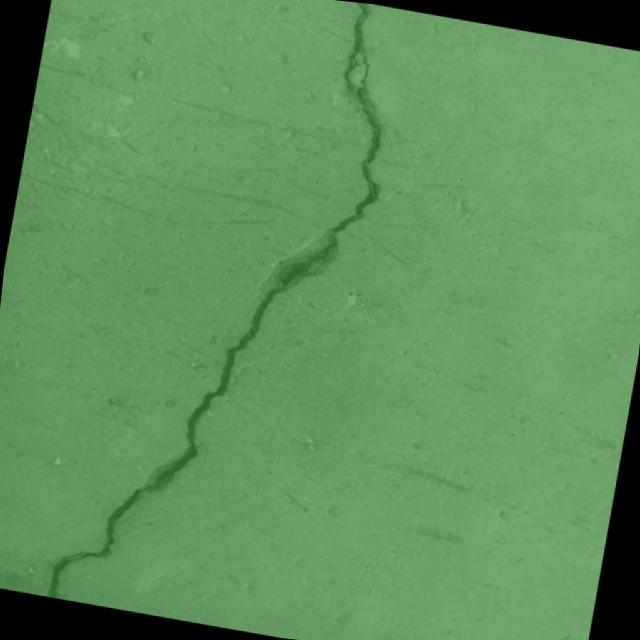crack: (43, 0, 414, 640)
